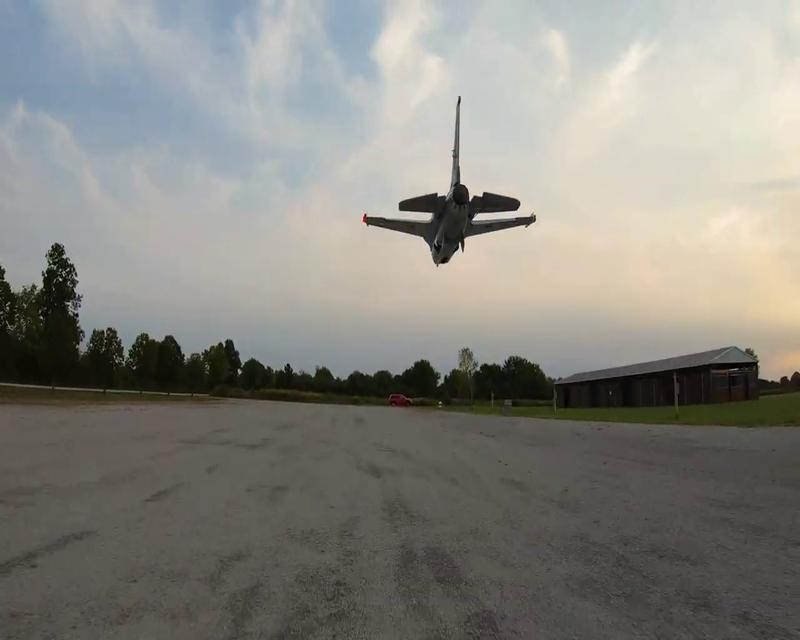UAV: (361, 94, 537, 268)
